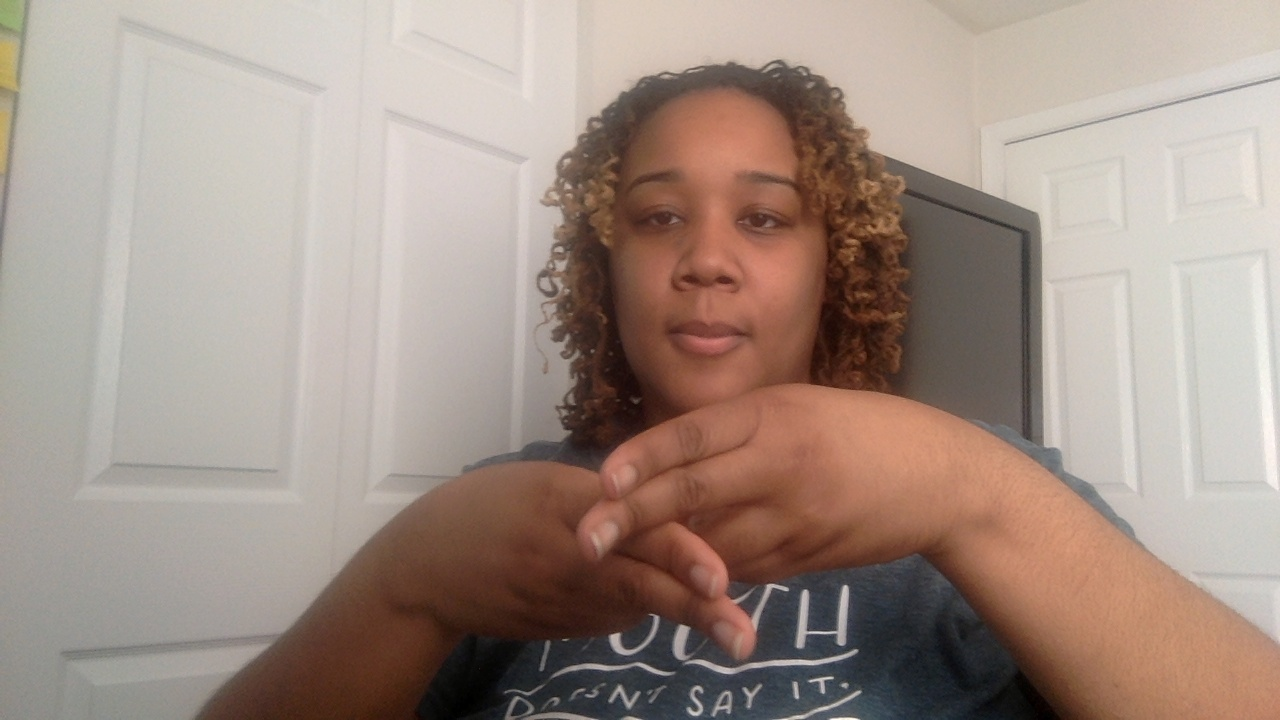name: (386, 384, 1012, 671)
